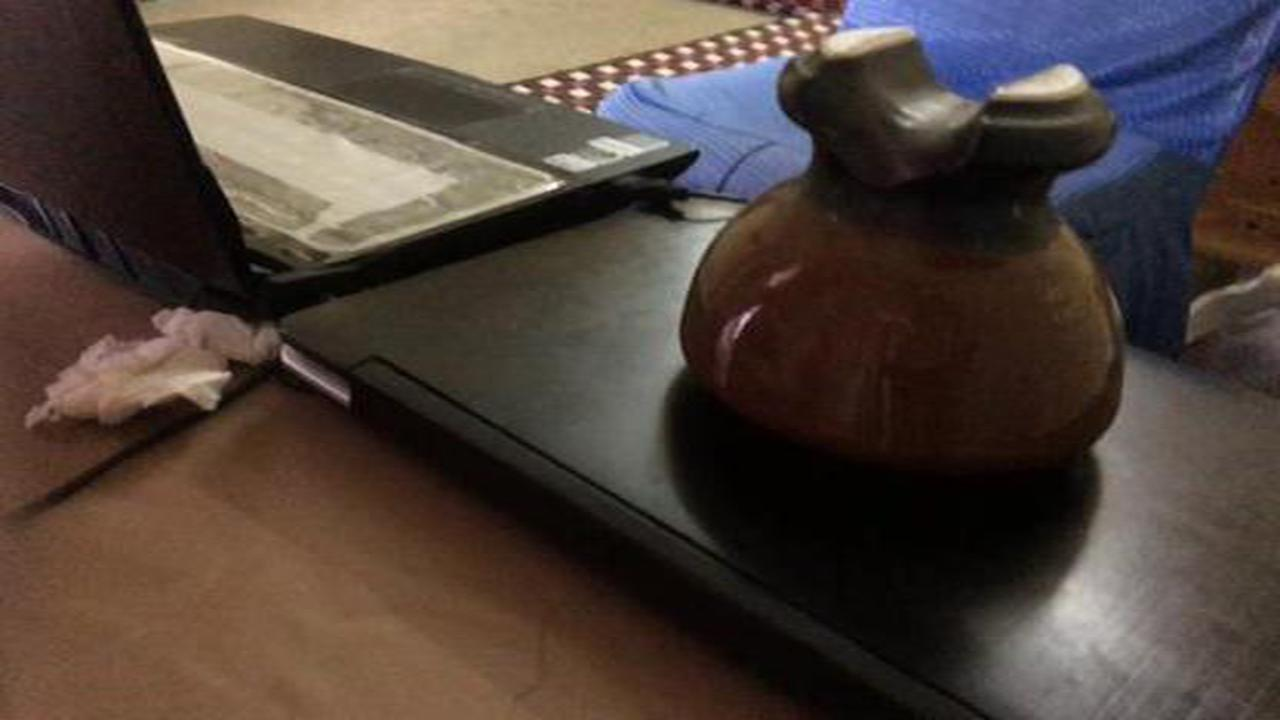insulator_pin: (665, 9, 1176, 485)
